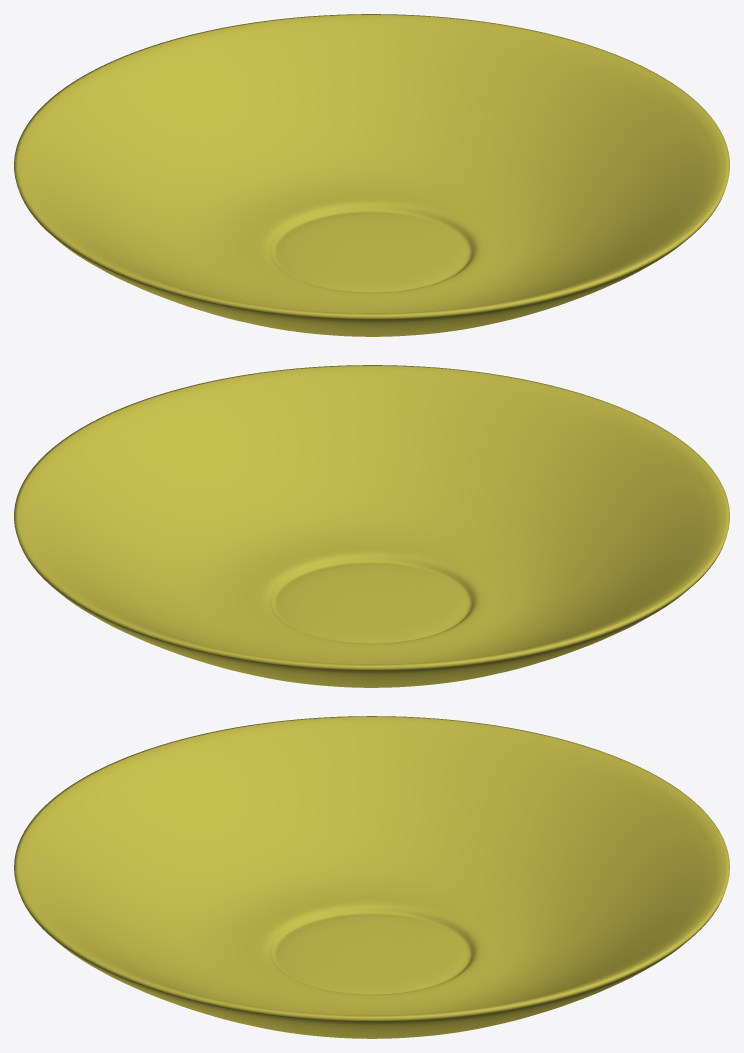
The model's file is single.glb.
The picture shows the model from 3 angles, top to bottom: view 1: azimuth 30°, elevation 25°; view 2: azimuth 150°, elevation 25°; view 3: azimuth 270°, elevation 25°; orthographic projection.
Visible parts, largest first — view 1: NAALBAKI.001; view 2: NAALBAKI.001; view 3: NAALBAKI.001.
Part boxes in pixels (left/top/right/bottom): NAALBAKI.001: left=14, top=14, right=729, bottom=336; NAALBAKI.001: left=14, top=365, right=729, bottom=687; NAALBAKI.001: left=14, top=716, right=729, bottom=1038.
Size of the model in its own units: 0.141 by 0.0217 by 0.141.
